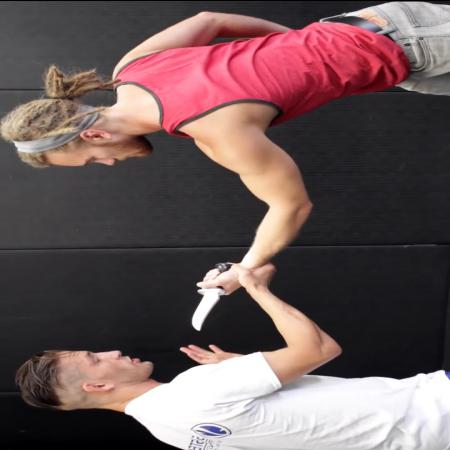long weapon: (178, 259, 233, 334)
